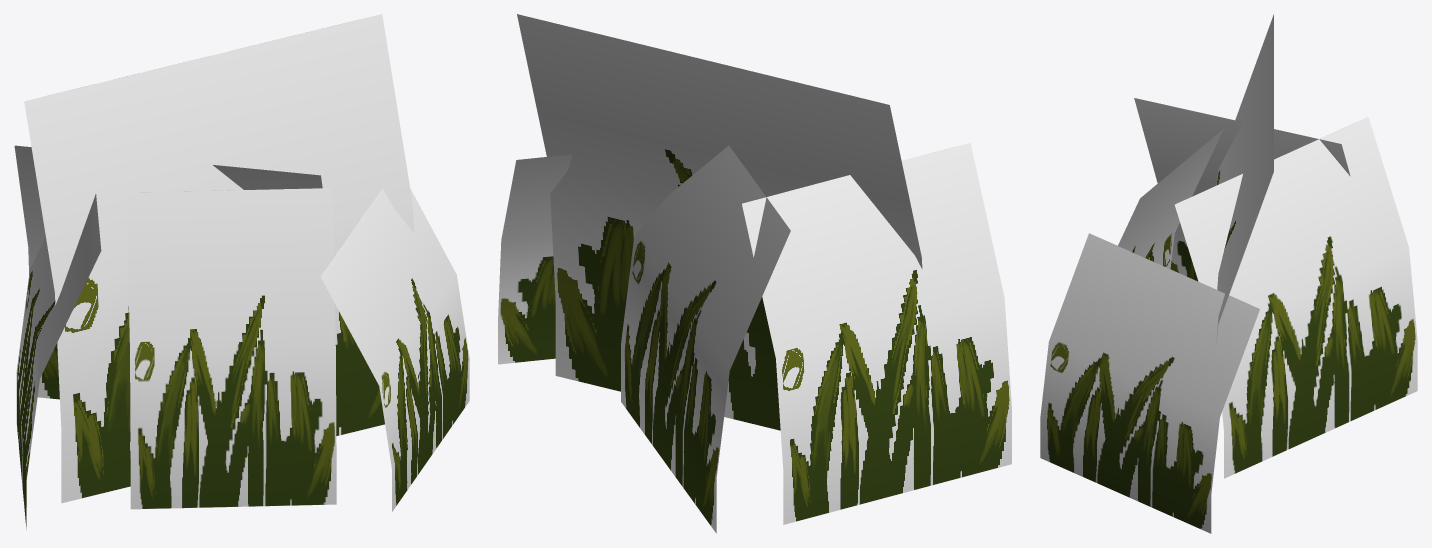
Rendered from Grass_Test.fbx.
3 views of the same model, side by side, from view 1: azimuth 30°, elevation 25°; view 2: azimuth 150°, elevation 25°; view 3: azimuth 270°, elevation 25° (orthographic). The views are drawn at different scales.
Parts seen in each view (by area): view 1: Grass_Test; view 2: Grass_Test; view 3: Grass_Test.
Boxes of the visible parts, x1,y1,x2,y2 form: Grass_Test: (14, 14, 469, 530); Grass_Test: (498, 14, 1011, 533); Grass_Test: (1040, 14, 1417, 533).
Bounding box in the file's own units: 1.31 × 1 × 1.01.
